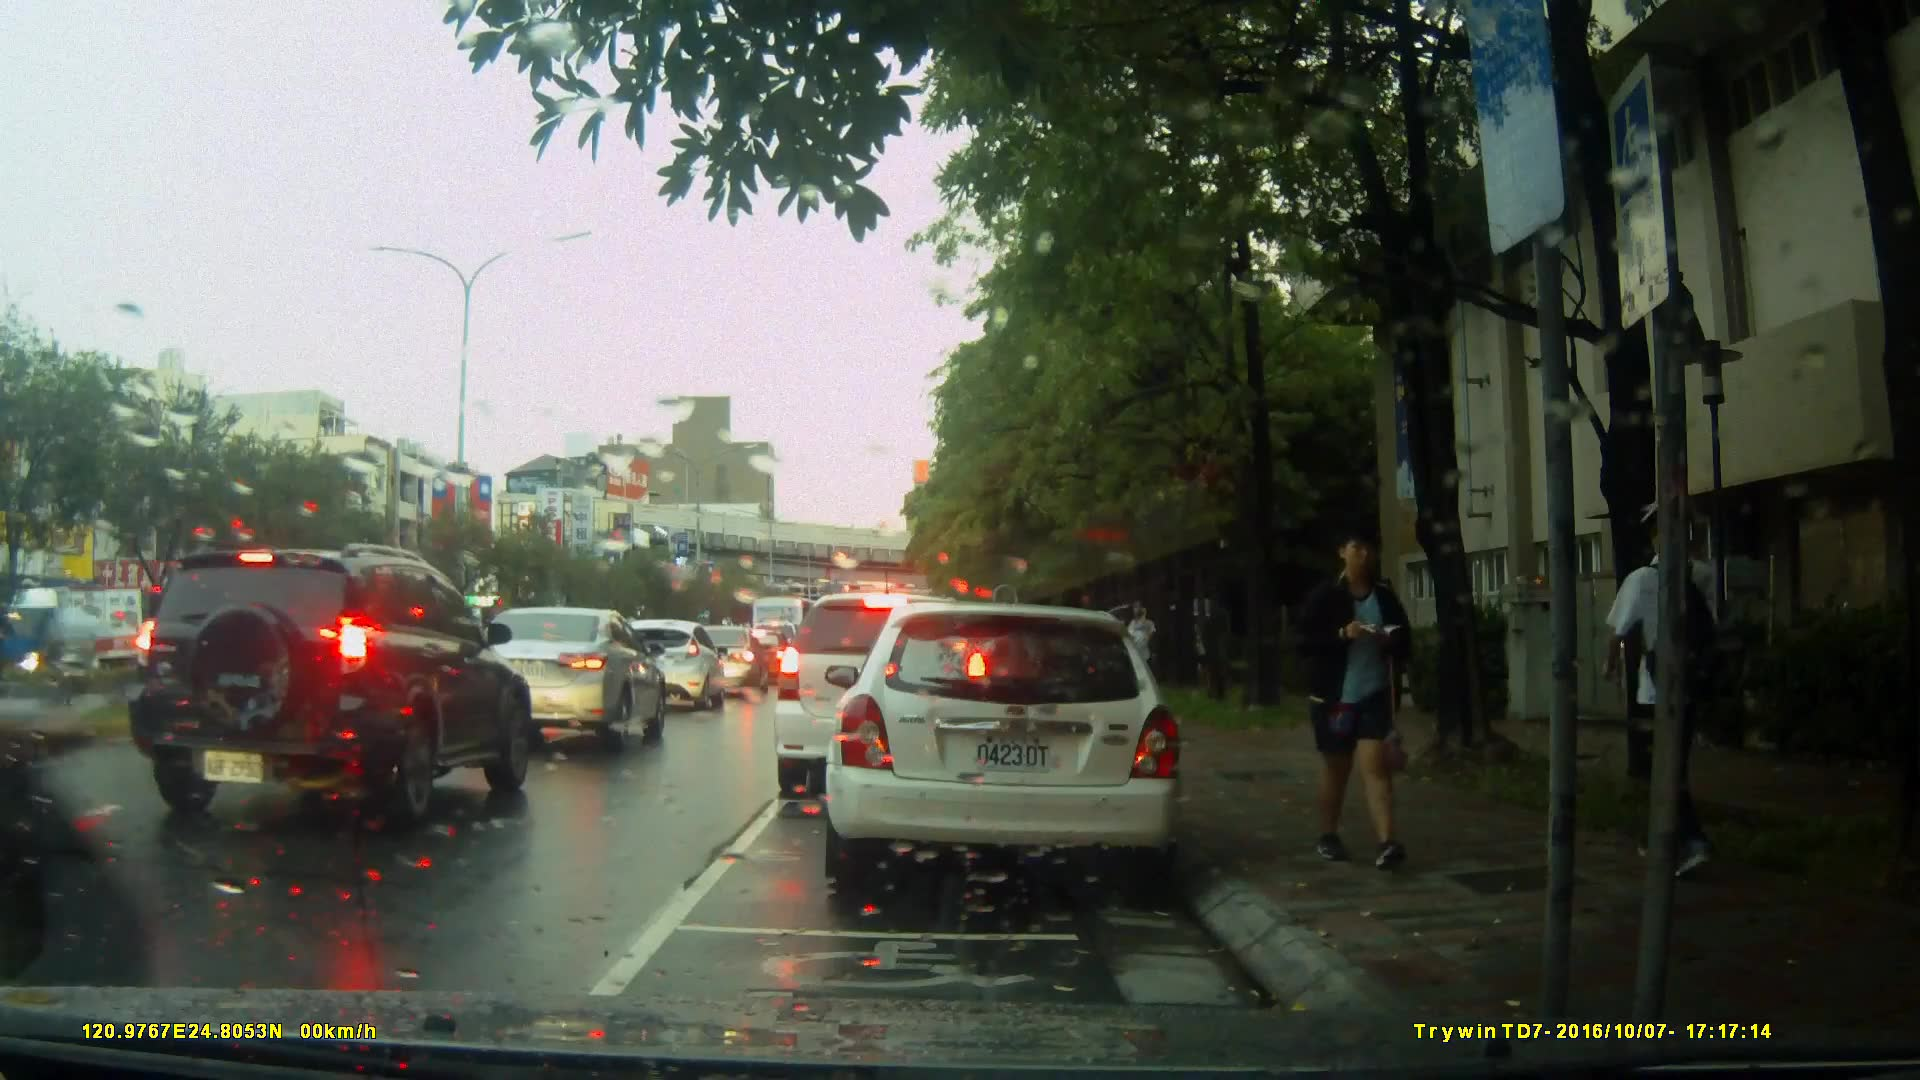pedestrian: (1595, 463, 1748, 889), (1281, 516, 1438, 879), (1119, 588, 1163, 730)
rider: (1, 406, 153, 1073)
vehicle: (121, 541, 534, 835), (815, 593, 1199, 896), (770, 590, 995, 802), (462, 607, 676, 752), (1, 584, 150, 686), (604, 617, 730, 714), (687, 625, 763, 691)
